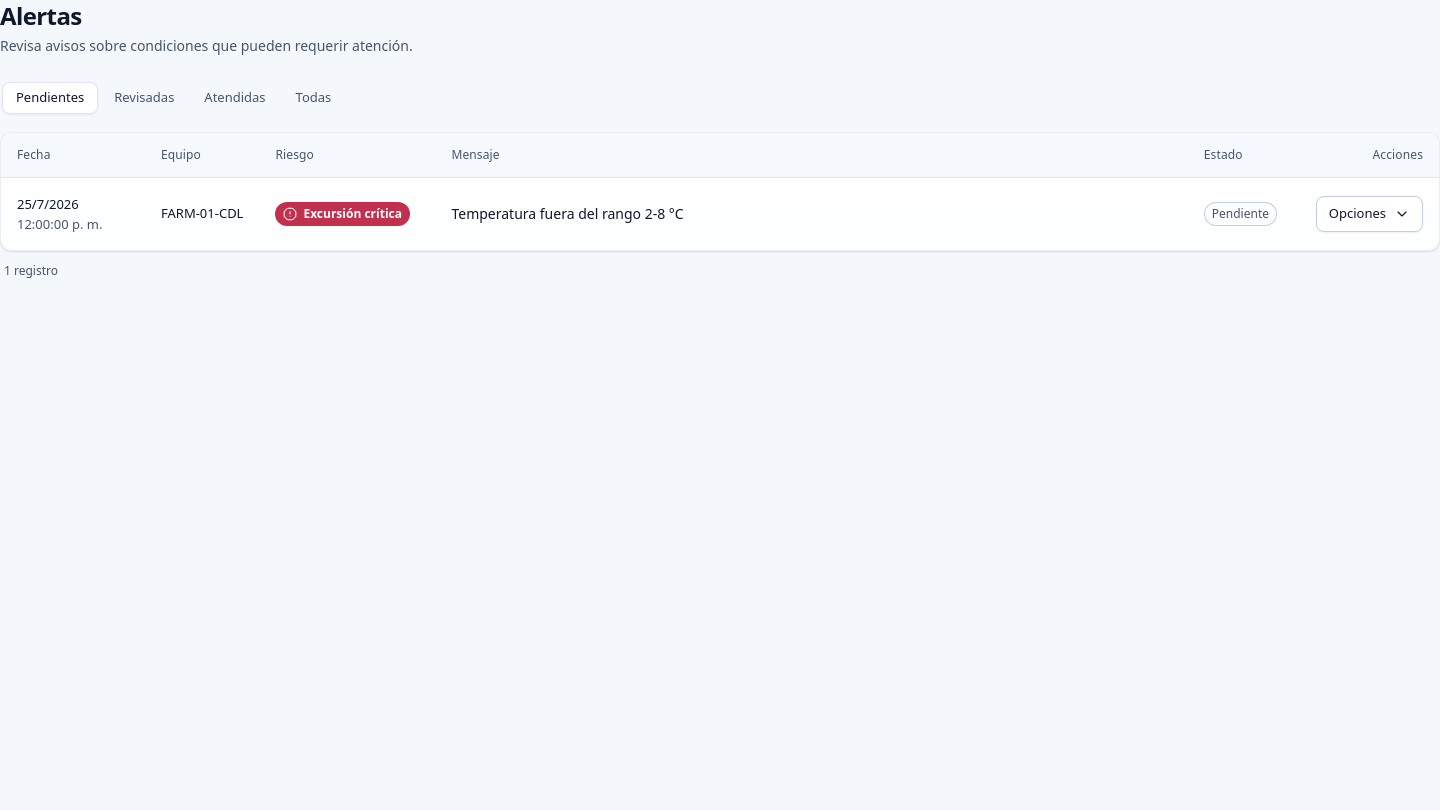
AlertasPage (RF-09, RF-10, HU-20/21/23/27/41) › abre detalle de alerta pendiente para consulta, incluso con rol auditor
What coordinates should you click on to do the following:
click the button "Opciones"
I would click on:
 (1369, 214)
Its box is [1316,196,1423,232].
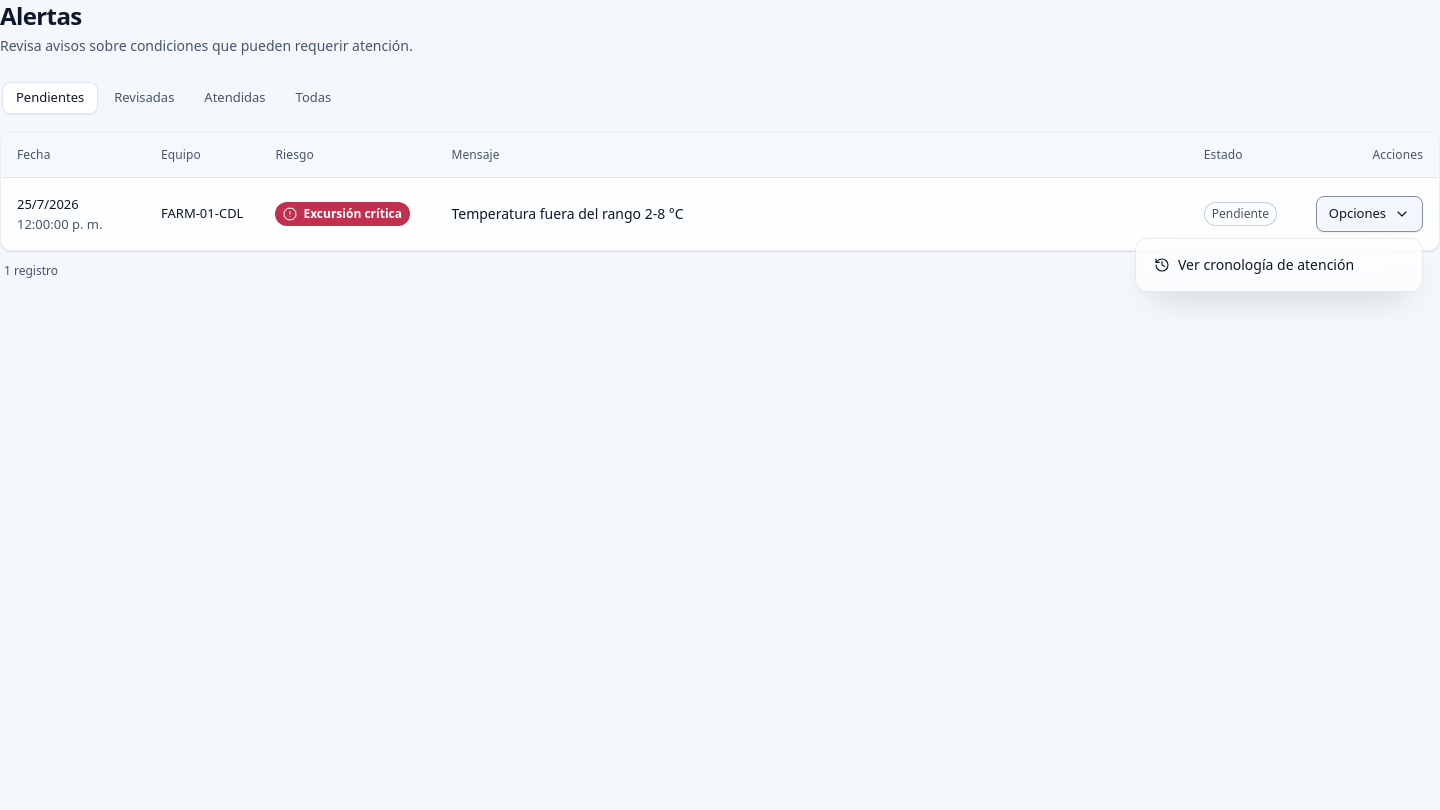
What coordinates should you click on to do the following:
click the menu item "Ver cronología de atención"
I would click on:
 (1279, 265)
Its box is [1142,245,1416,285].
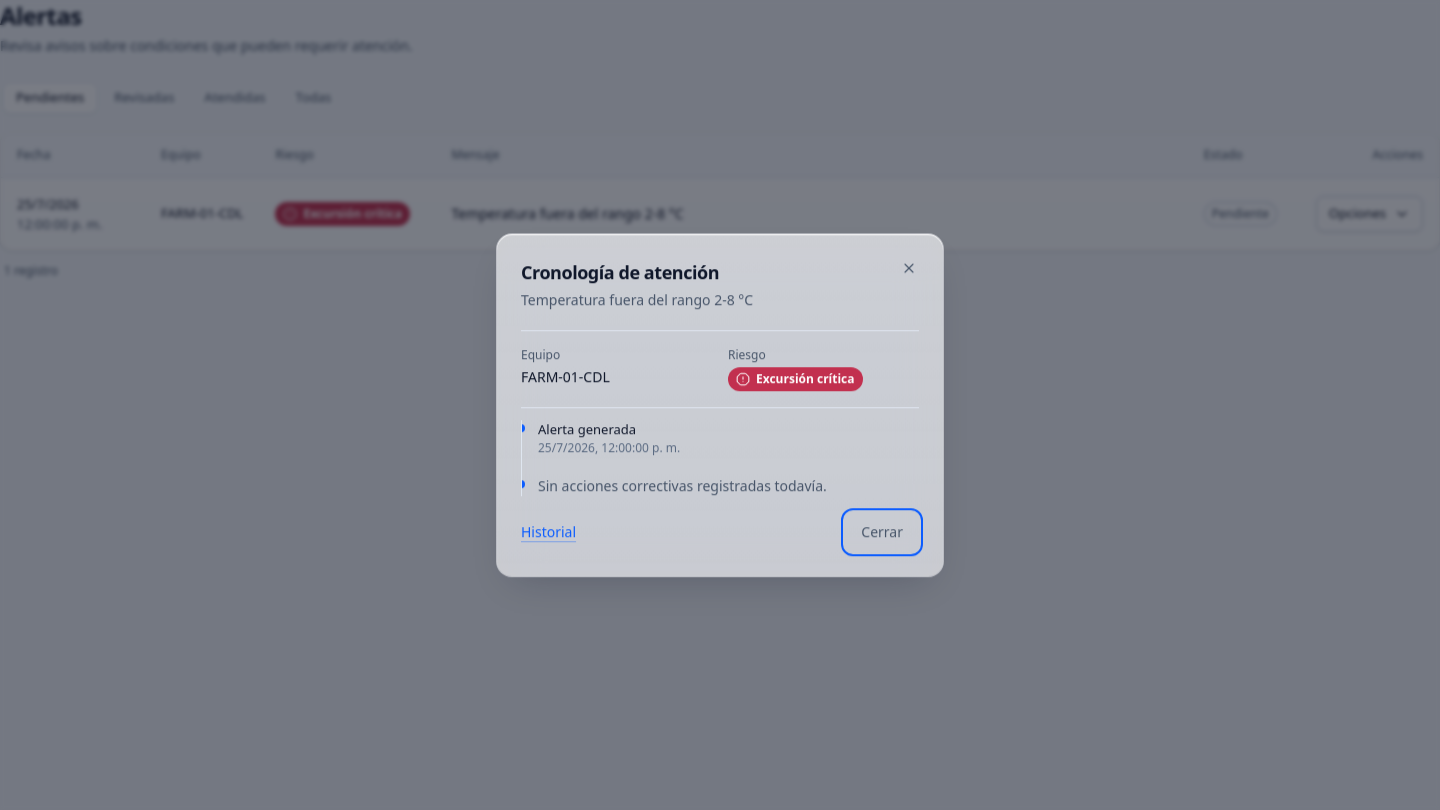
Expected: the dialog shows "FARM-01-CDL", [521,367,610,386]
